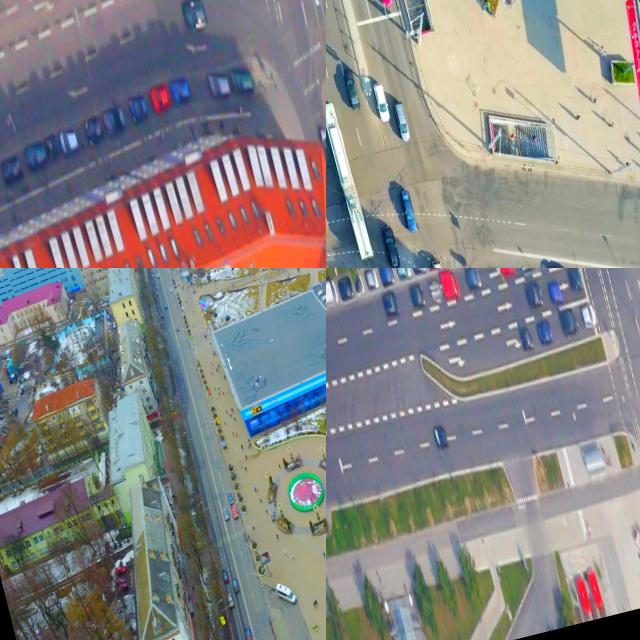UAI: (22, 139, 50, 174), (381, 224, 402, 268), (398, 189, 418, 234), (229, 65, 256, 98), (101, 104, 128, 137), (342, 67, 362, 111), (372, 80, 392, 123), (206, 67, 232, 100), (180, 0, 208, 30), (392, 100, 412, 142), (0, 153, 25, 186), (83, 114, 107, 148), (127, 92, 150, 124), (58, 127, 81, 157), (169, 76, 192, 105), (149, 85, 172, 114), (558, 306, 579, 336), (524, 280, 545, 310), (440, 270, 461, 300), (381, 289, 401, 317), (44, 132, 62, 161), (536, 318, 555, 345), (580, 301, 598, 329), (317, 126, 326, 181), (408, 283, 426, 309), (337, 274, 355, 300), (518, 324, 535, 351), (428, 277, 444, 305), (432, 424, 449, 449), (567, 268, 584, 292), (464, 268, 482, 290), (547, 280, 563, 304), (326, 277, 339, 305), (363, 268, 379, 289), (377, 268, 395, 285), (352, 272, 365, 294), (429, 257, 450, 268), (394, 268, 412, 280), (242, 623, 254, 640), (546, 262, 576, 268), (230, 576, 240, 593), (226, 592, 236, 609), (496, 268, 516, 276), (221, 567, 230, 583), (221, 506, 230, 521), (230, 505, 239, 520), (226, 491, 234, 505), (409, 268, 426, 274), (174, 323, 179, 331), (164, 303, 168, 310), (169, 286, 173, 292)
car: (326, 100, 374, 259)
harvester: (273, 579, 298, 609)
